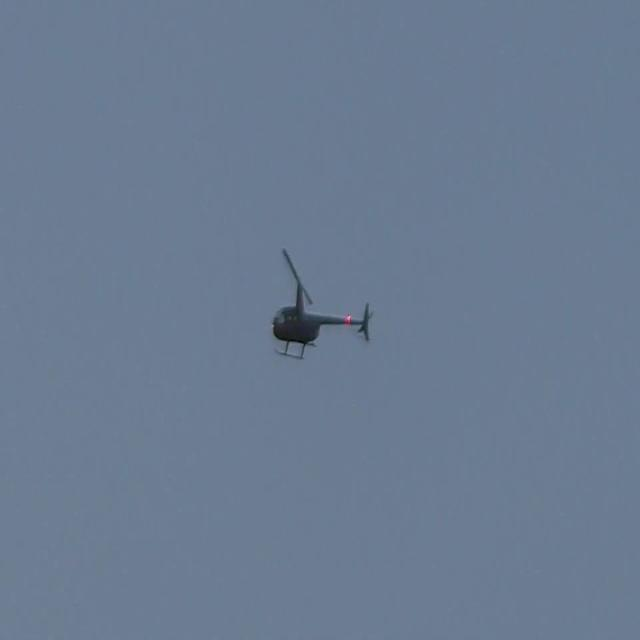CIV_HELO: (272, 281, 374, 361)
